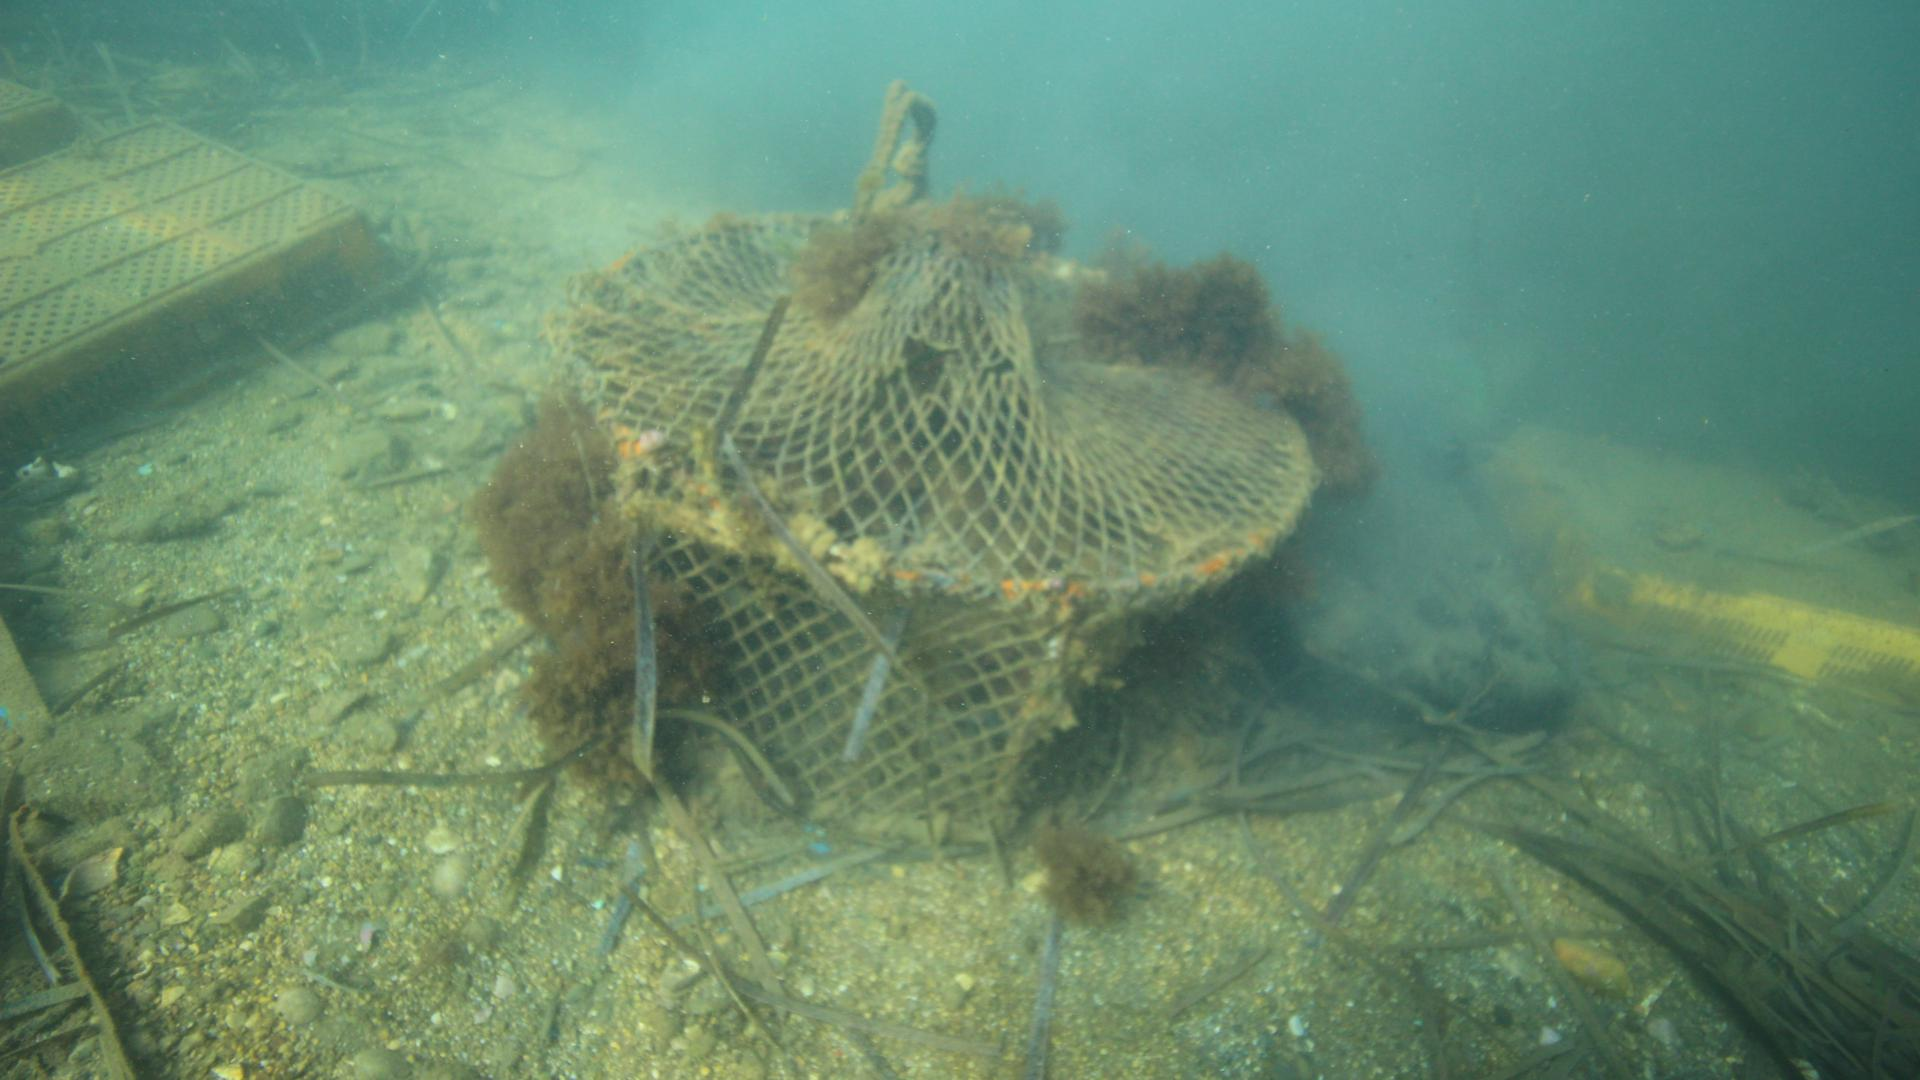bundle of ropes: (852, 74, 939, 204)
circular fish trap: (541, 204, 1319, 841)
